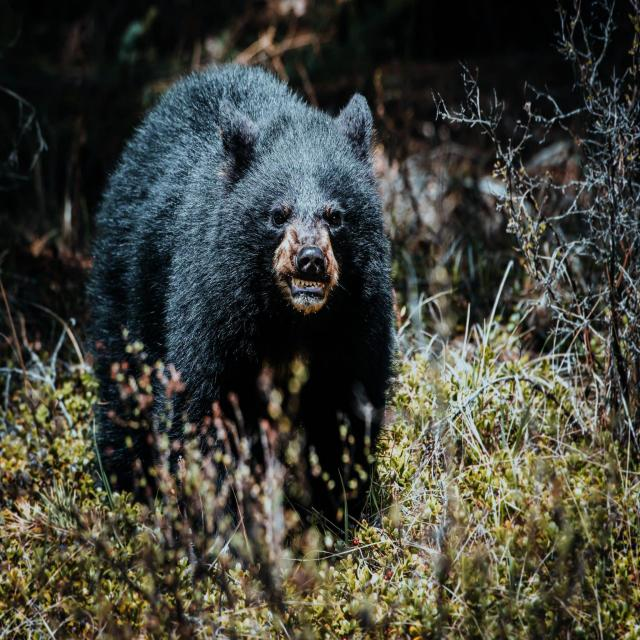Bear: (84, 65, 397, 528)
